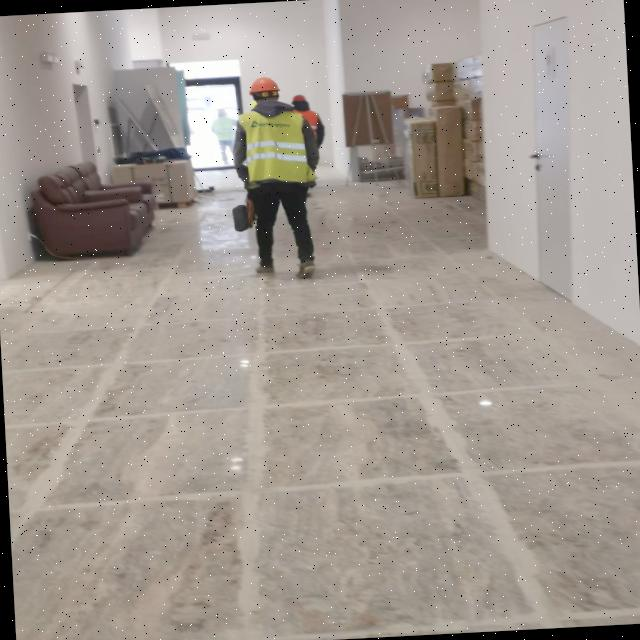Helmet: (249, 78, 281, 97), (292, 95, 308, 106)
Jacket: (242, 114, 311, 184), (216, 119, 235, 143), (305, 112, 320, 131)
